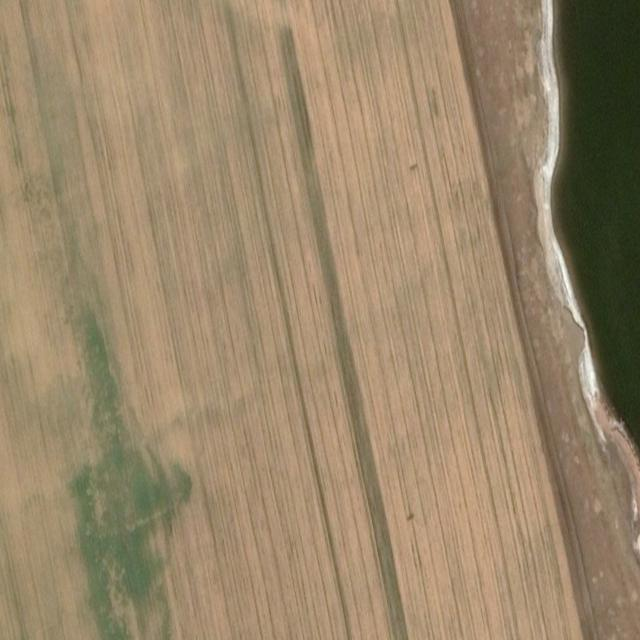bare-soil: (0, 0, 640, 639)
water: (553, 0, 640, 465)
